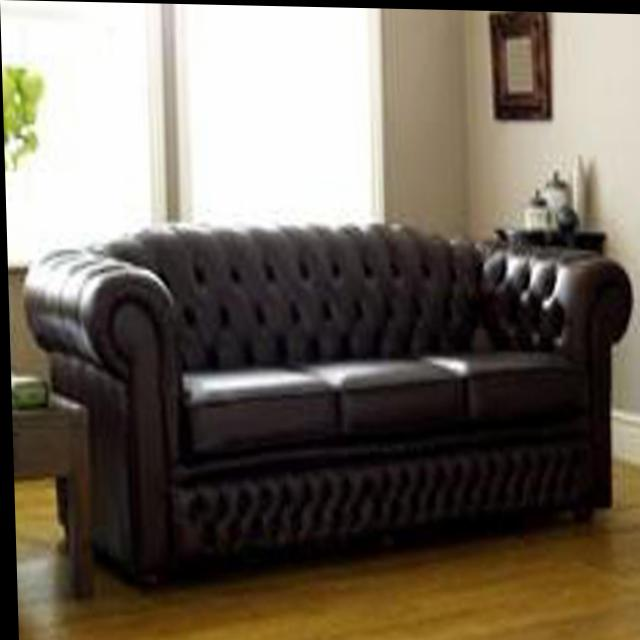Sofa: (17, 210, 622, 583)
